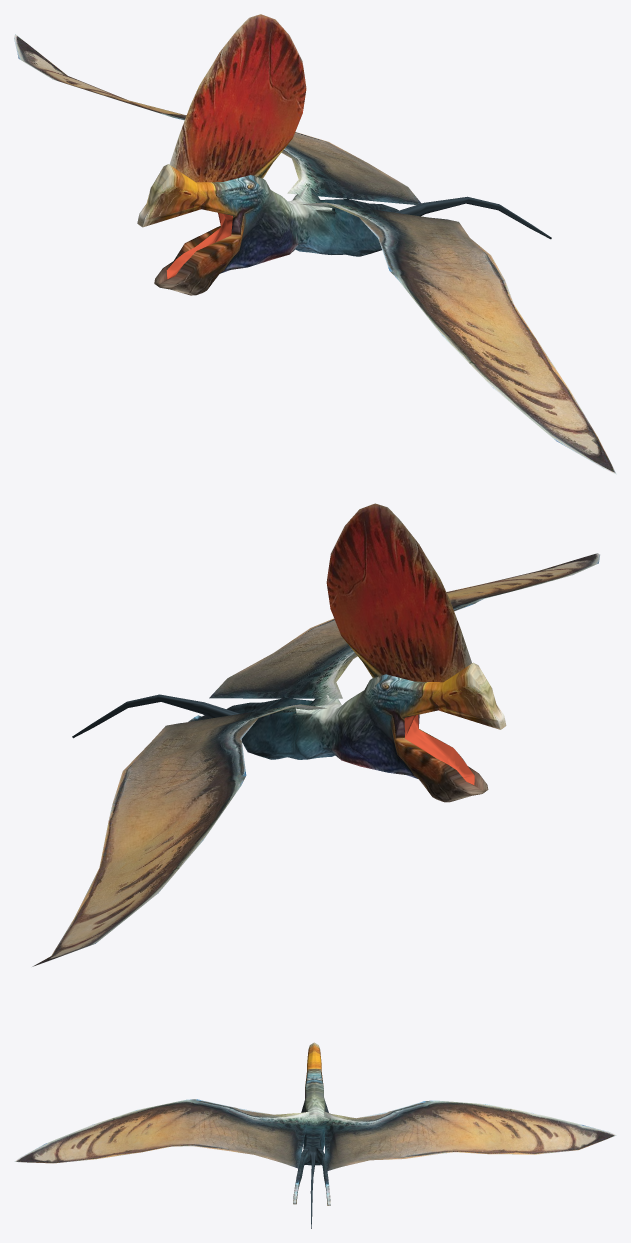
3 renders of one model, top to bottom at view 1: azimuth 30°, elevation 25°; view 2: azimuth 150°, elevation 25°; view 3: azimuth 270°, elevation 25°, orthographic. The views are drawn at different scales.
Visible parts, largest first — view 1: Animal; view 2: Animal; view 3: Animal.
Part boxes in pixels (x1,y1,x2,y2): Animal: [14, 14, 616, 474]; Animal: [32, 503, 599, 966]; Animal: [14, 1042, 616, 1228].
Size of the model in its own units: 1.33 by 0.9114 by 3.2.
2 materials, 1 textured.
